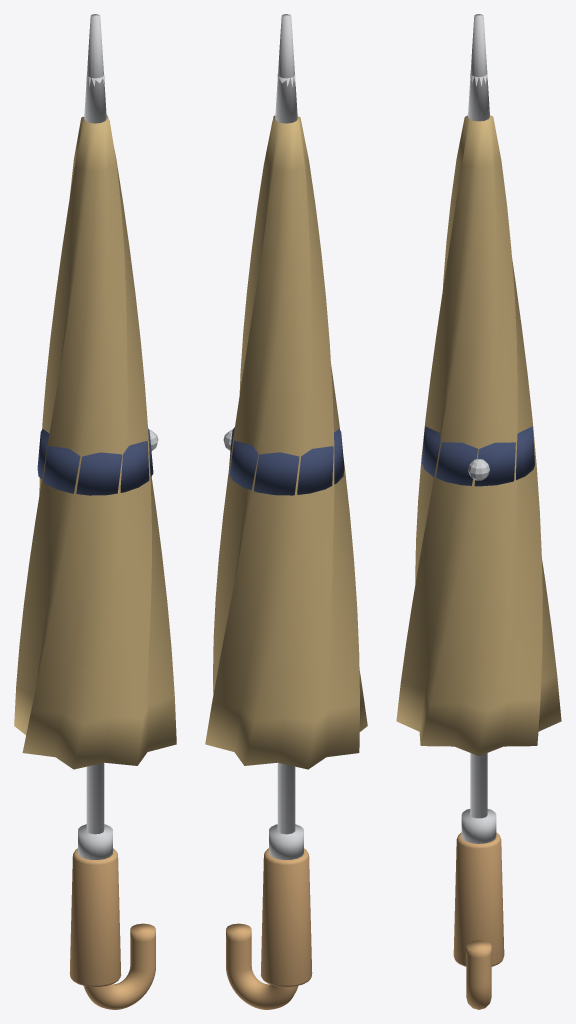
The model's file is umbrella.glb.
3 renders of one model, left to right at view 1: azimuth 30°, elevation 25°; view 2: azimuth 150°, elevation 25°; view 3: azimuth 270°, elevation 25°, orthographic.
Visible parts, largest first — view 1: Umbrella_Canopy, Umbrella_Grip, Umbrella_Strap, Umbrella_JHook, Umbrella_Tip, Umbrella_Shaft, Umbrella_Collar; view 2: Umbrella_Canopy, Umbrella_Grip, Umbrella_Strap, Umbrella_JHook, Umbrella_Tip, Umbrella_Shaft, Umbrella_Collar; view 3: Umbrella_Canopy, Umbrella_Grip, Umbrella_Strap, Umbrella_Tip, Umbrella_JHook, Umbrella_Shaft, Umbrella_Collar.
Part boxes in pixels (left/top/right/bottom): Umbrella_Canopy: left=14, top=115, right=176, bottom=769; Umbrella_Grip: left=69, top=848, right=121, bottom=986; Umbrella_Strap: left=37, top=428, right=153, bottom=495; Umbrella_JHook: left=83, top=923, right=155, bottom=1009; Umbrella_Tip: left=84, top=14, right=106, bottom=123; Umbrella_Shaft: left=86, top=74, right=104, bottom=834; Umbrella_Collar: left=78, top=824, right=112, bottom=859; Umbrella_Canopy: left=205, top=115, right=367, bottom=769; Umbrella_Grip: left=260, top=848, right=312, bottom=986; Umbrella_Strap: left=229, top=427, right=344, bottom=495; Umbrella_JHook: left=226, top=923, right=298, bottom=1009; Umbrella_Tip: left=275, top=14, right=297, bottom=123; Umbrella_Shaft: left=277, top=74, right=295, bottom=834; Umbrella_Collar: left=269, top=824, right=303, bottom=859; Umbrella_Canopy: left=396, top=115, right=561, bottom=755; Umbrella_Grip: left=453, top=832, right=504, bottom=966; Umbrella_Strap: left=422, top=426, right=534, bottom=486; Umbrella_Tip: left=468, top=14, right=489, bottom=121; Umbrella_JHook: left=466, top=940, right=491, bottom=1009; Umbrella_Shaft: left=470, top=73, right=487, bottom=818; Umbrella_Collar: left=461, top=809, right=496, bottom=843.
Size of the model in its own units: 0.104 by 0.68 by 0.104.
